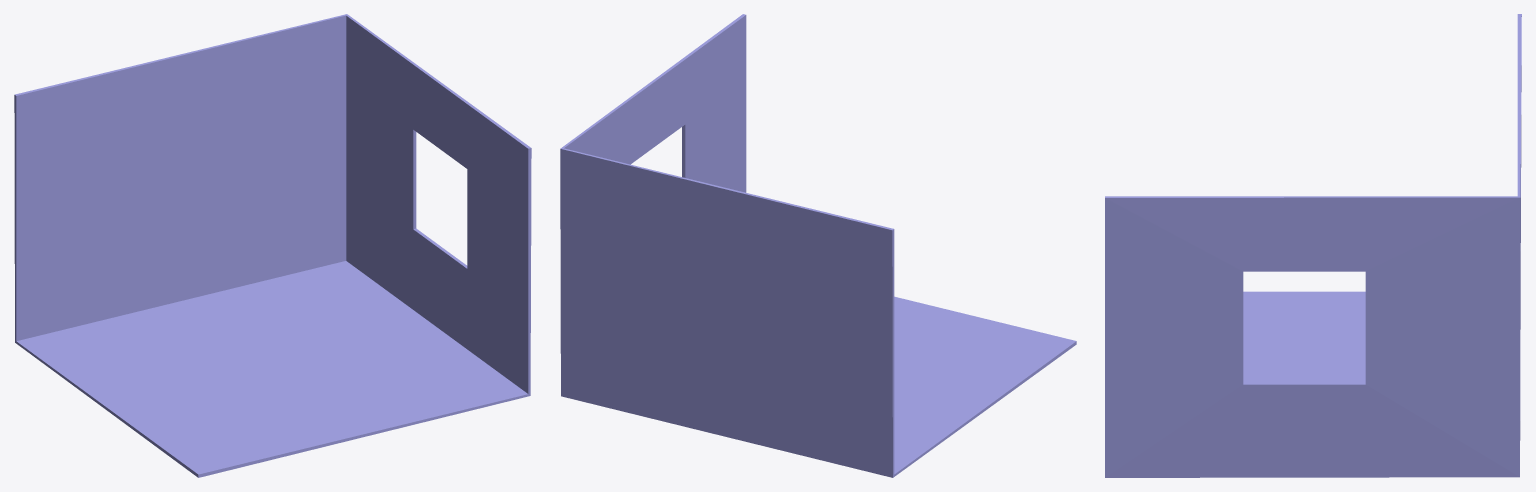
File: tembok.fbx
3 views of the same model, side by side, from view 1: azimuth 30°, elevation 25°; view 2: azimuth 150°, elevation 25°; view 3: azimuth 270°, elevation 25° (orthographic). The views are drawn at different scales.
Parts seen in each view (by area): view 1: Cube; view 2: Cube; view 3: Cube.
Part boxes in pixels (x1,y1,x2,y2): Cube: (14,14,531,477); Cube: (560,14,1076,477); Cube: (1105,14,1521,477).
Bounding box in the file's own units: 1028 × 734 × 984.
